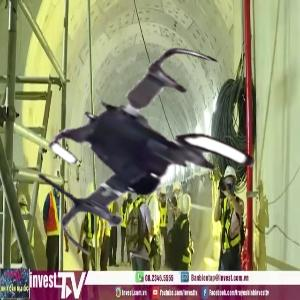drone: (32, 39, 281, 288)
